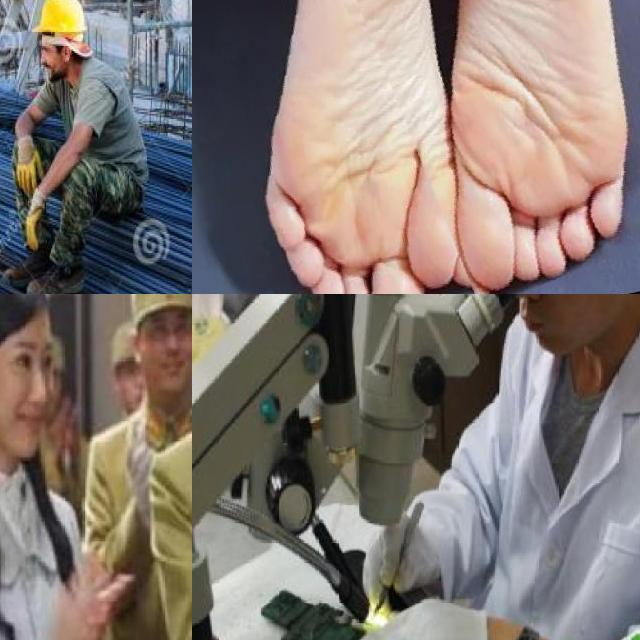Barefoots: (260, 0, 454, 294), (452, 0, 640, 291)
face_nomask: (482, 294, 610, 345), (9, 336, 56, 458), (147, 311, 190, 400)
hand_glove: (356, 512, 435, 600), (350, 597, 493, 640), (17, 199, 58, 266), (124, 418, 152, 514), (11, 134, 48, 199)
hand_noglove: (56, 560, 116, 640)
head_helmet: (30, 0, 87, 39)
head_nohelmet: (0, 294, 64, 341)
person: (466, 294, 640, 640), (2, 0, 150, 294), (0, 294, 125, 640)
shoes: (26, 252, 89, 294), (1, 243, 53, 290)
